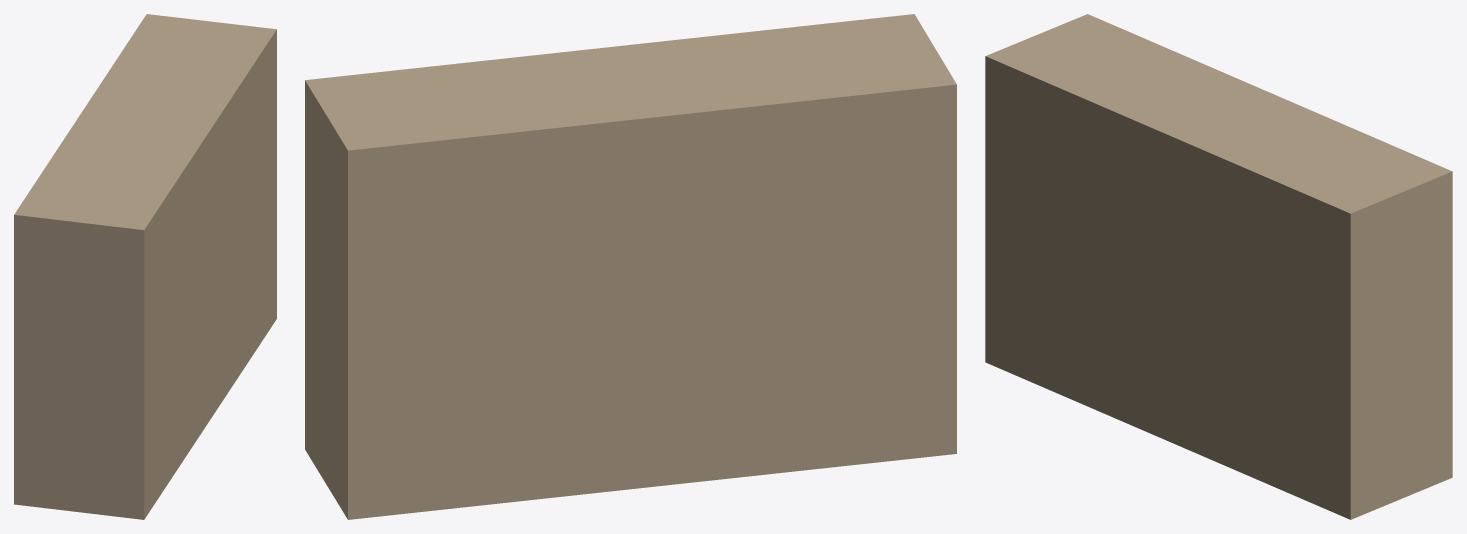
File: bld_100469750.dae
3 renders of one model, left to right at view 1: azimuth 30°, elevation 25°; view 2: azimuth 150°, elevation 25°; view 3: azimuth 270°, elevation 25°, orthographic. The views are drawn at different scales.
Parts seen in each view (by area): view 1: bld_100469750; view 2: bld_100469750; view 3: bld_100469750.
Part boxes in pixels (x1,y1,x2,y2): bld_100469750: [14, 14, 276, 519]; bld_100469750: [305, 14, 956, 519]; bld_100469750: [985, 14, 1452, 519].
Bounding box in the file's own units: 11.19 × 11.06 × 8.
